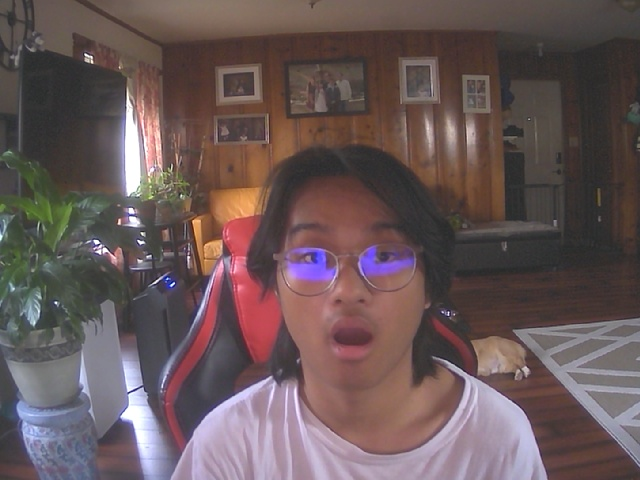fear: (264, 165, 433, 390)
